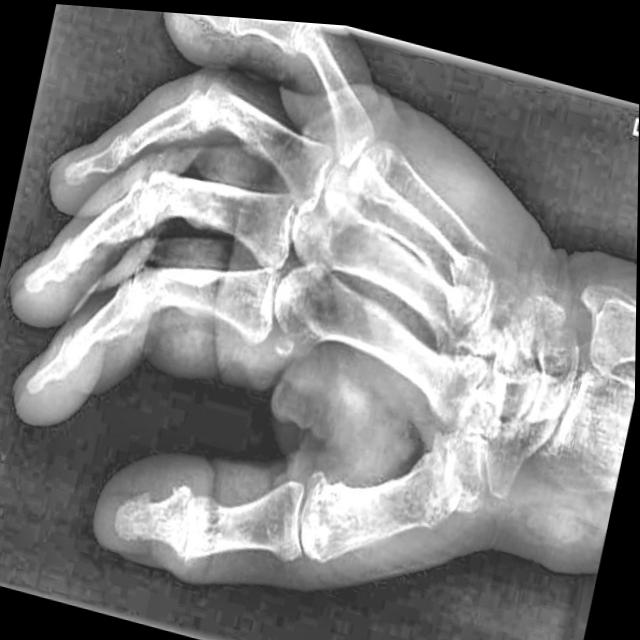fracture: (447, 223, 498, 276)
